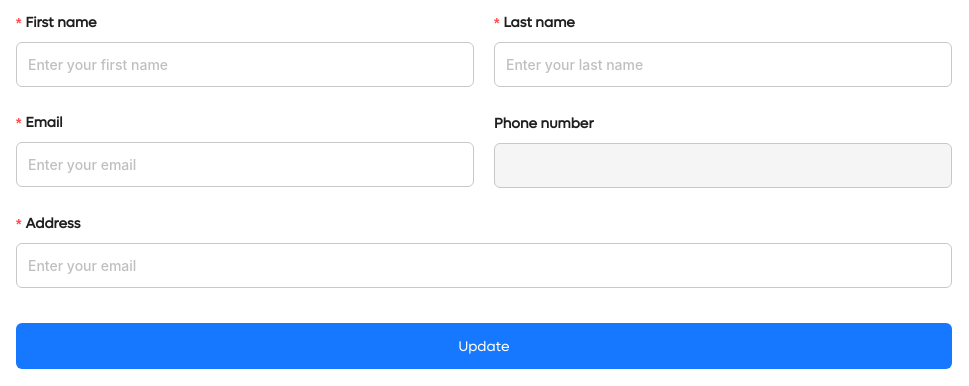
Test: Profile Component › displays validation errors on form submit with empty fields
Step 1. Click the button "Update" → [484, 346], box [16,323,952,369]
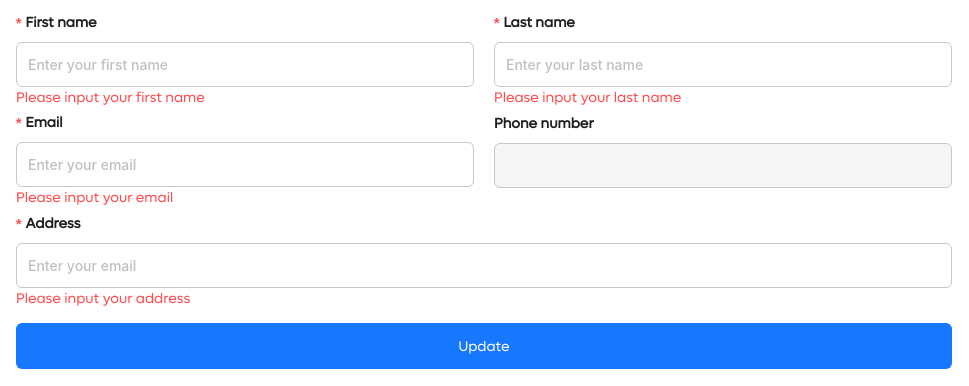
Now the text "Please input your first name" is shown, box [16,88,205,107]
Now the text "Please input your last name" is shown, box [494,88,681,107]
Now the text "Please input your email" is shown, box [16,188,173,207]
